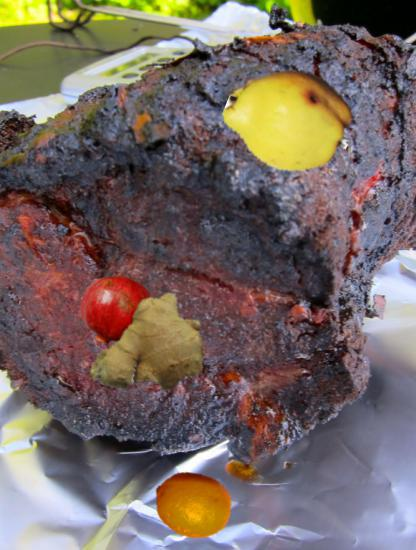Ginger: (83, 286, 208, 411)
Lemon: (153, 466, 232, 545)
Pomegranate: (79, 274, 153, 348)
Quince: (225, 55, 354, 184)
